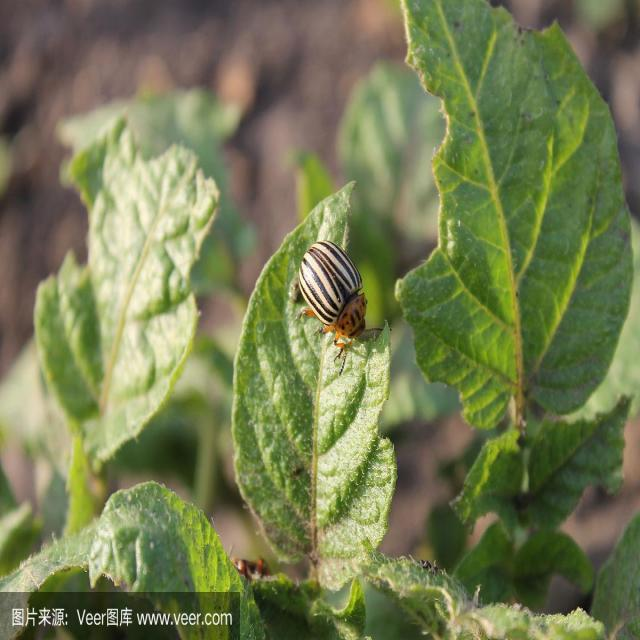ShuCaiHuaBanChong-Grown-: (290, 235, 372, 352)
